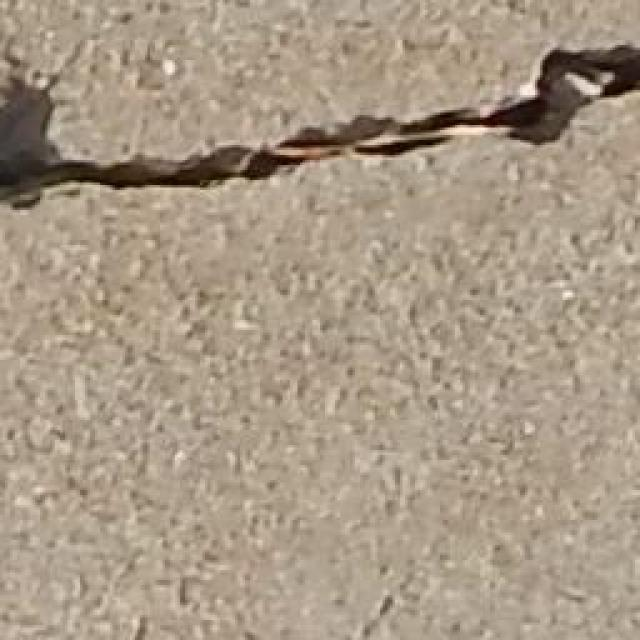concrete-crack: (0, 35, 640, 217)
